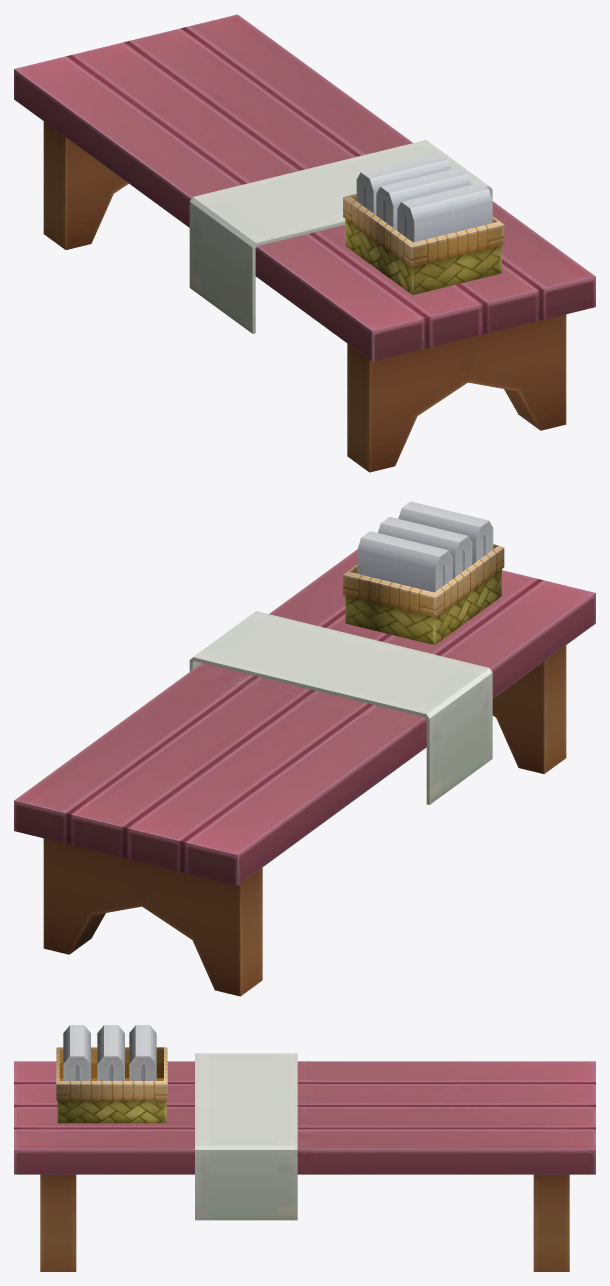
The model's file is my_hyakkiyako_01_bench_01.glb.
3 renders of one model, top to bottom at view 1: azimuth 30°, elevation 25°; view 2: azimuth 150°, elevation 25°; view 3: azimuth 270°, elevation 25°, orthographic. The views are drawn at different scales.
Visible parts, largest first — view 1: my_hyakkiyako_01_bench_01; view 2: my_hyakkiyako_01_bench_01; view 3: my_hyakkiyako_01_bench_01.
Part boxes in pixels (x1,y1,x2,y2): my_hyakkiyako_01_bench_01: [14, 14, 595, 472]; my_hyakkiyako_01_bench_01: [14, 501, 595, 996]; my_hyakkiyako_01_bench_01: [14, 1025, 595, 1271].
Size of the model in its own units: 0.00382 by 0.0036 by 0.00989.
Materials: 1 (1 with a texture image).
